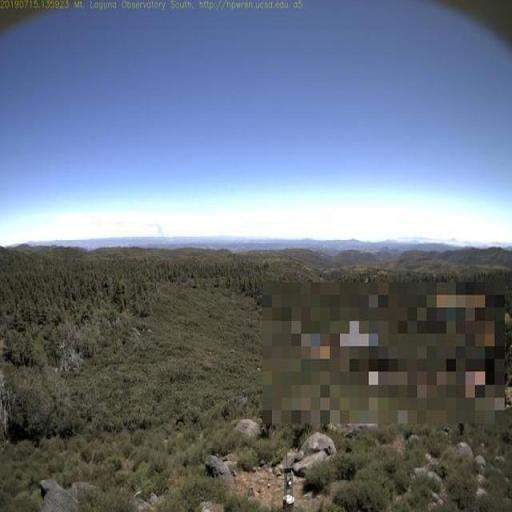smoke: (146, 218, 170, 239)
